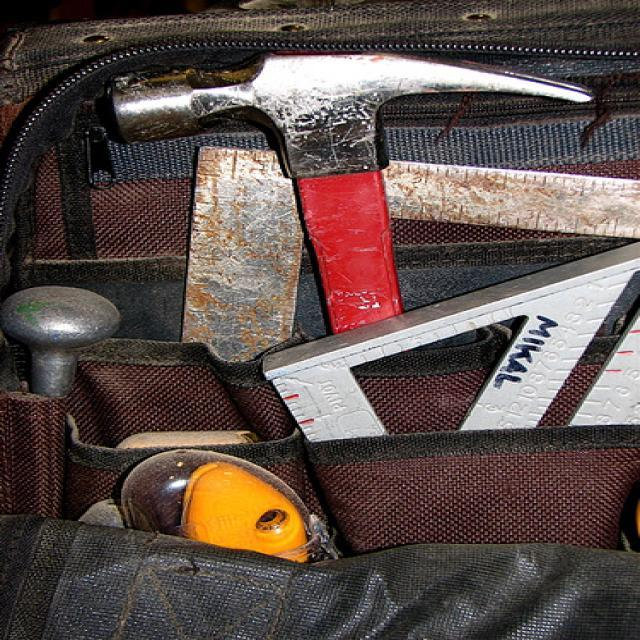hammer: (90, 32, 614, 365)
